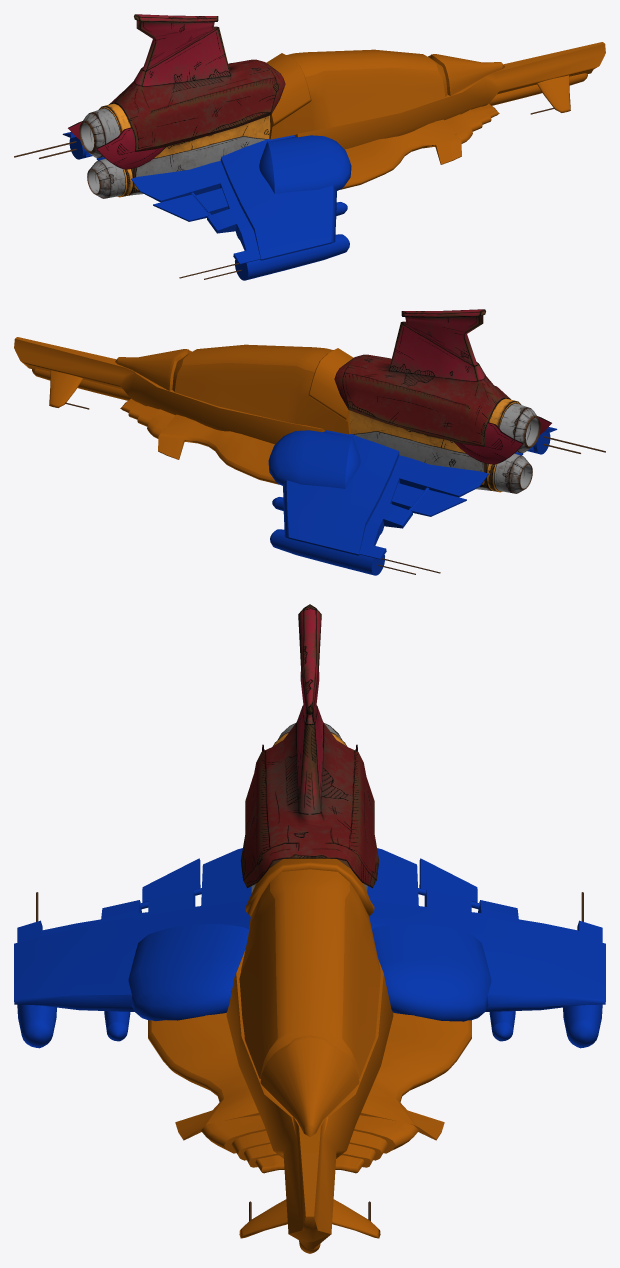
File: Player_ship_Phase_8_GOOD.fbx
3 renders of one model, top to bottom at view 1: azimuth 30°, elevation 25°; view 2: azimuth 150°, elevation 25°; view 3: azimuth 270°, elevation 25°, orthographic. The views are drawn at different scales.
Visible parts, largest first — view 1: TailFin_GEO_Low, Cockpit_GEO_Low, Wing_Primary_R_GEO_Low, Hull_GEO_Low, Wing_Secondary_R_GEO_Low, Fuel_Tank_Large_R_GEO_Low, Pre_Grill_Structure_GEO_Low, Feusalage_GEO_Low, Fuel_Tank_Small_R_GEO_Low, Thruster_GEO_1_Low, Cockpit_Guard_GEO_Low, Thruster_GEO_2_Low (+5 smaller); view 2: TailFin_GEO_Low, Cockpit_GEO_Low, Wing_Primary_L_GEO_Low, Hull_GEO_Low, Wing_Secondary_L_GEO_Low, Fuel_Tank_Large_L_GEO_Low, Pre_Grill_Structure_GEO_Low, Feusalage_GEO_Low, Fuel_Tank_Small_L_GEO_Low, Thruster_GEO_1_Low, Cockpit_Guard_GEO_Low, Thruster_GEO_2_Low (+5 smaller); view 3: Cockpit_GEO_Low, TailFin_GEO_Low, Pre_Grill_Structure_GEO_Low, Wing_Primary_R_GEO_Low, Wing_Primary_L_GEO_Low, Hull_GEO_Low, Fuel_Tank_Large_L_GEO_Low, Fuel_Tank_Large_R_GEO_Low, Cockpit_Guard_GEO_Low, Grill_GEO_Low, Wing_Secondary_L_GEO_Low, Wing_Secondary_R_GEO_Low (+6 smaller).
Boxes of the visible parts, box(x1,y1,x2,y2) form: TailFin_GEO_Low: box(109, 14, 285, 151); Cockpit_GEO_Low: box(266, 49, 447, 139); Wing_Primary_R_GEO_Low: box(220, 135, 336, 260); Hull_GEO_Low: box(294, 42, 605, 149); Wing_Secondary_R_GEO_Low: box(131, 161, 260, 264); Fuel_Tank_Large_R_GEO_Low: box(259, 135, 351, 193); Pre_Grill_Structure_GEO_Low: box(340, 119, 461, 189); Feusalage_GEO_Low: box(127, 115, 270, 195); Fuel_Tank_Small_R_GEO_Low: box(235, 234, 349, 280); Thruster_GEO_1_Low: box(79, 103, 130, 158); Cockpit_Guard_GEO_Low: box(428, 54, 504, 95); Thruster_GEO_2_Low: box(87, 158, 133, 198); TailFin_GEO_Low: box(334, 309, 510, 446); Cockpit_GEO_Low: box(172, 344, 353, 434); Wing_Primary_L_GEO_Low: box(283, 430, 399, 555); Hull_GEO_Low: box(14, 337, 325, 444); Wing_Secondary_L_GEO_Low: box(359, 455, 488, 559); Fuel_Tank_Large_L_GEO_Low: box(268, 430, 360, 488); Pre_Grill_Structure_GEO_Low: box(158, 414, 279, 484); Feusalage_GEO_Low: box(349, 410, 493, 491); Fuel_Tank_Small_L_GEO_Low: box(270, 529, 384, 575); Thruster_GEO_1_Low: box(489, 398, 540, 453); Cockpit_Guard_GEO_Low: box(115, 349, 191, 390); Thruster_GEO_2_Low: box(486, 453, 532, 493); Cockpit_GEO_Low: box(239, 858, 380, 1078); TailFin_GEO_Low: box(240, 604, 379, 888); Pre_Grill_Structure_GEO_Low: box(148, 1012, 471, 1140); Wing_Primary_R_GEO_Low: box(14, 900, 250, 1011); Wing_Primary_L_GEO_Low: box(369, 900, 605, 1011); Hull_GEO_Low: box(226, 950, 393, 1249); Fuel_Tank_Large_L_GEO_Low: box(372, 924, 491, 1021); Fuel_Tank_Large_R_GEO_Low: box(128, 924, 248, 1021); Cockpit_Guard_GEO_Low: box(260, 1035, 359, 1136); Grill_GEO_Low: box(200, 1115, 419, 1173); Wing_Secondary_L_GEO_Low: box(367, 848, 602, 942); Wing_Secondary_R_GEO_Low: box(17, 848, 251, 942).
Bounding box in the file's own units: 873 × 336 × 520.
